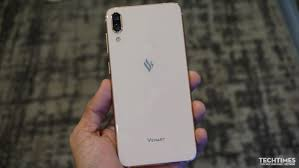vsmart: (102, 1, 198, 168)
